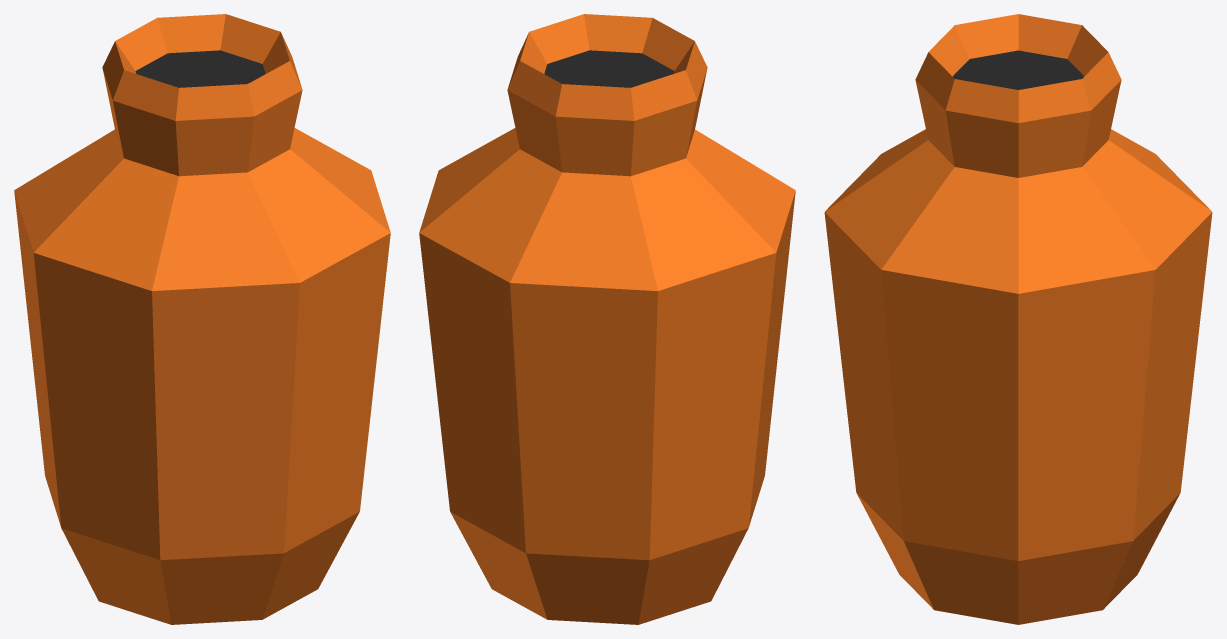
The model's file is jar-medium.glb.
3 views of the same model, side by side, from view 1: azimuth 30°, elevation 25°; view 2: azimuth 150°, elevation 25°; view 3: azimuth 270°, elevation 25° (orthographic).
Visible parts, largest first — view 1: jar-medium; view 2: jar-medium; view 3: jar-medium.
Boxes of the visible parts, x1,y1,x2,y2 form: jar-medium: [14, 14, 390, 624]; jar-medium: [419, 14, 795, 624]; jar-medium: [824, 14, 1212, 624].
Bounding box in the file's own units: 0.4826 × 0.7343 × 0.4826.
Materials: 1 (1 with a texture image).
